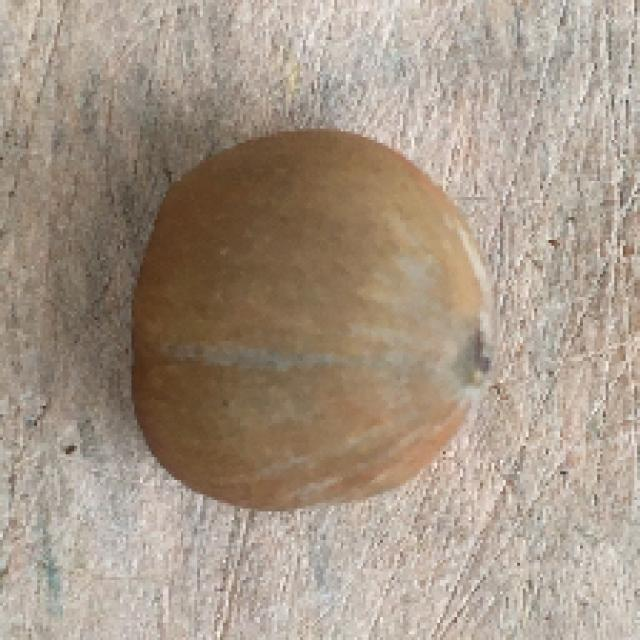damagedHazelnut: (115, 113, 505, 521)
